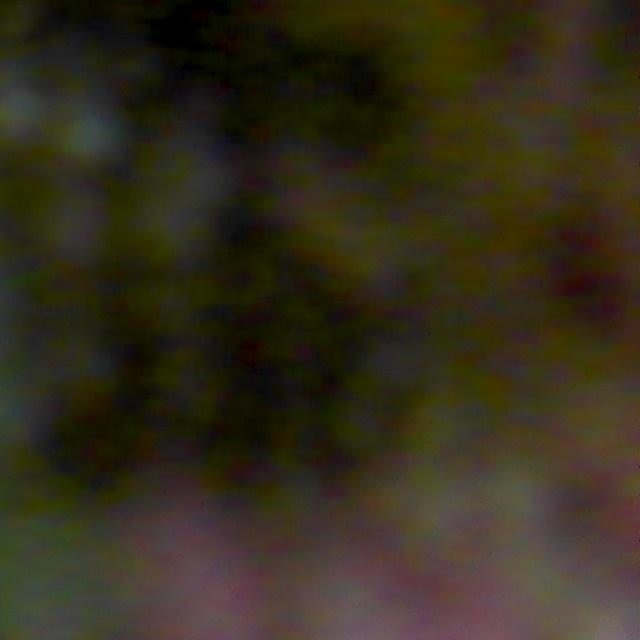SeaGrape: (132, 508, 255, 640), (54, 100, 127, 171), (0, 78, 49, 150)
